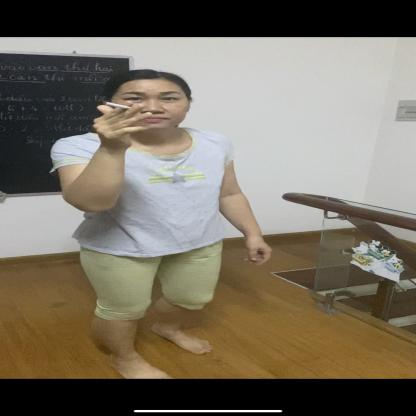cigarette: (99, 100, 132, 111)
person: (42, 60, 280, 350)
